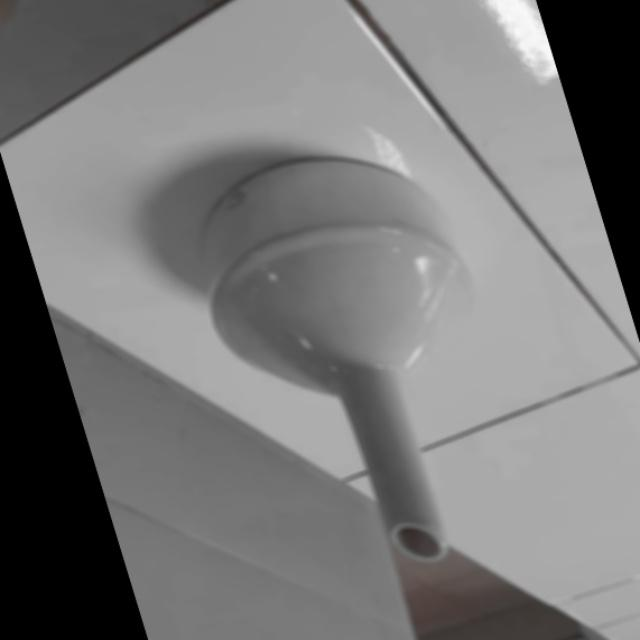Bunchen funnel: (161, 132, 564, 578)
